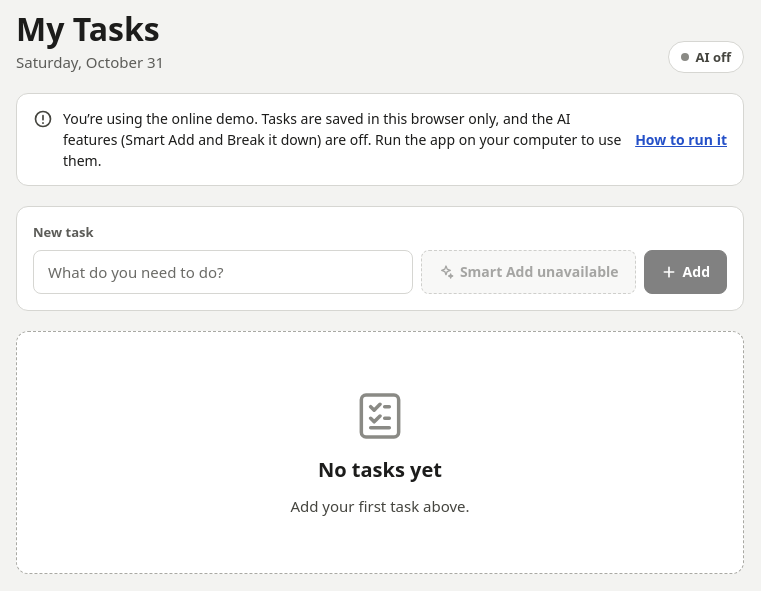
AI off banner and demo mode › in demo mode, tasks can still be added
The image size is (761, 591).
Type "Try the demo" into the field labelled "New task" at (223, 272), box [33,250,413,294]
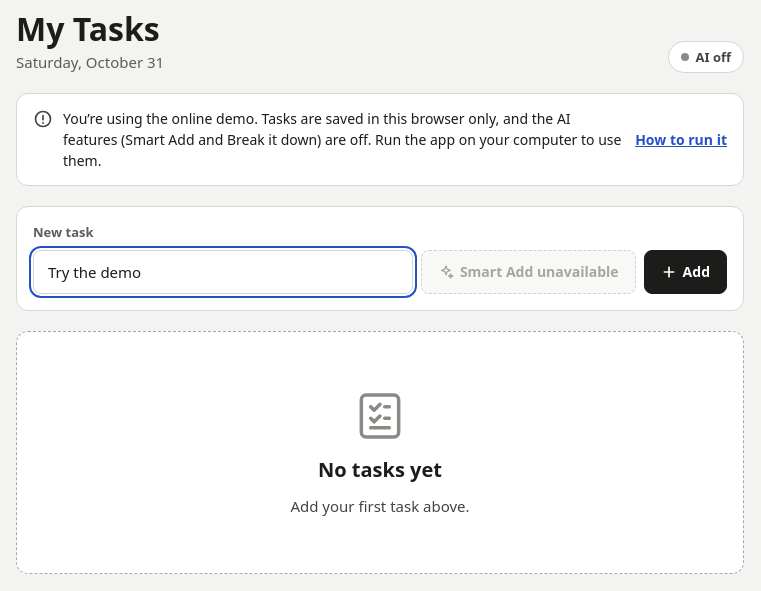
Click the button "Add" at (685, 272), box [644,250,727,294]
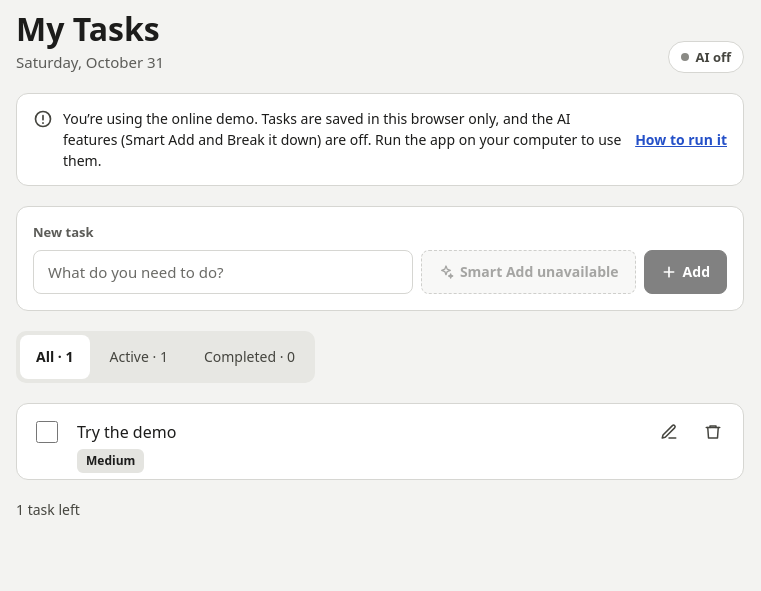
Now the checkbox named "Try the demo" is shown, box [36,421,58,443]
